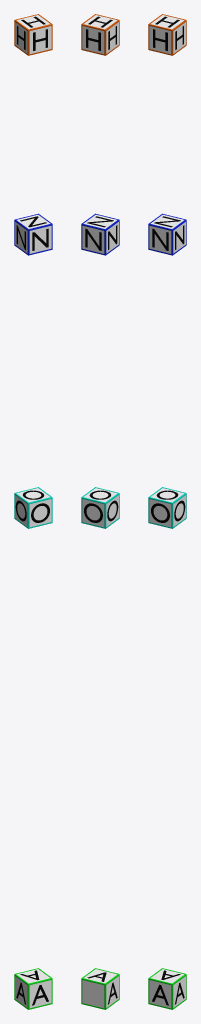
Rendered from letter_cubes.fbx.
3 renders of one model, left to right at view 1: azimuth 30°, elevation 25°; view 2: azimuth 150°, elevation 25°; view 3: azimuth 330°, elevation 25°, orthographic.
Parts seen in each view (by area): view 1: Block2, Block1, Block4, Block3, N3, O2, H3; view 2: Block2, Block1, Block4, Block3, N4, O6, H1; view 3: Block2, Block1, Block4, Block3, N3, O2, H3.
Part boxes in pixels (x1,y1,x2,y2): Block2: (14, 968, 52, 1009); Block1: (14, 213, 52, 255); Block4: (14, 14, 52, 55); Block3: (14, 487, 52, 528); N3: (32, 228, 48, 250); O2: (31, 503, 49, 522); H3: (33, 29, 47, 50); Block2: (81, 968, 119, 1009); Block1: (81, 213, 119, 255); Block4: (81, 14, 119, 55); Block3: (81, 487, 119, 528); N4: (85, 228, 101, 250); O6: (84, 503, 102, 522); H1: (86, 29, 100, 50); Block2: (148, 968, 186, 1009); Block1: (148, 213, 186, 255); Block4: (148, 14, 186, 55); Block3: (148, 487, 186, 528); N3: (152, 228, 168, 250); O2: (151, 503, 169, 522); H3: (153, 29, 167, 50).
Size of the model in its own units: 14.57 by 554 by 14.57.
